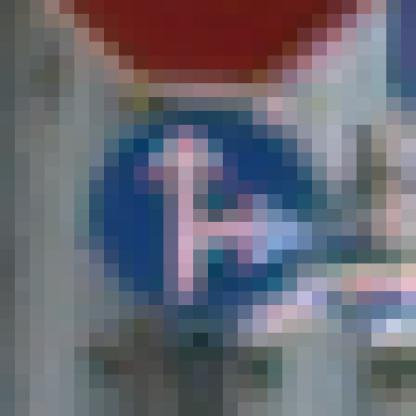Straight or Right: (75, 84, 343, 348)
